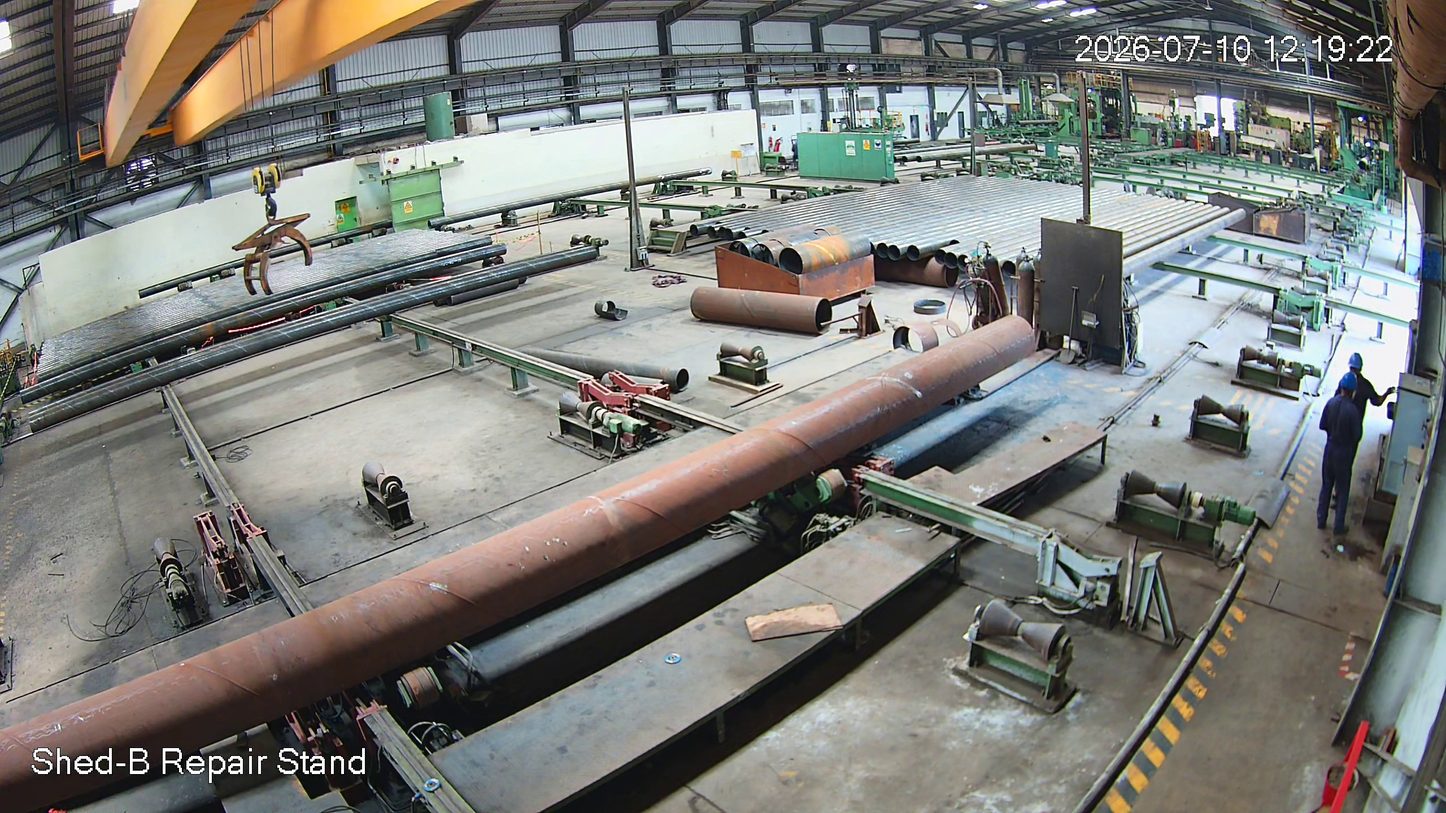Helmet: (1333, 372, 1361, 406)
Person: (1312, 373, 1360, 543)
